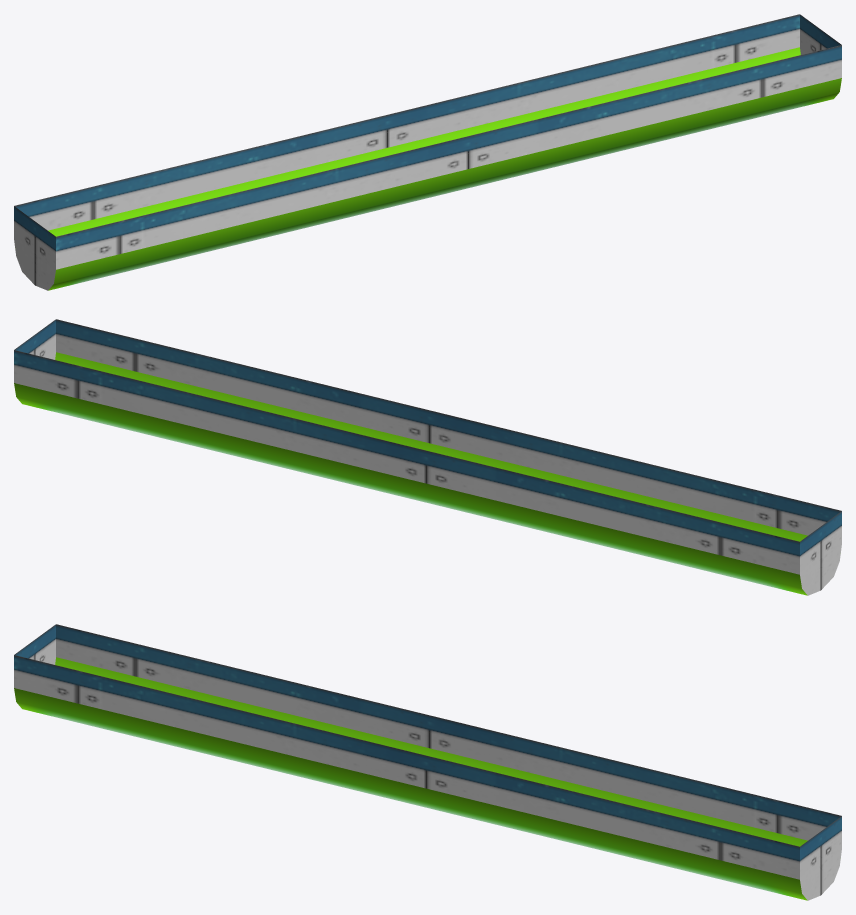
Rendered from Neon_Up_06.FBX.
3 renders of one model, top to bottom at view 1: azimuth 30°, elevation 25°; view 2: azimuth 150°, elevation 25°; view 3: azimuth 330°, elevation 25°, orthographic.
Parts seen in each view (by area): view 1: Neon_Up_06, Neon; view 2: Neon_Up_06, Neon; view 3: Neon_Up_06, Neon.
Boxes of the visible parts, x1=… form: Neon_Up_06: x1=14, y1=14, x2=841, y2=290; Neon: x1=48, y1=47, x2=841, y2=290; Neon_Up_06: x1=14, y1=319, x2=841, y2=595; Neon: x1=14, y1=352, x2=807, y2=595; Neon_Up_06: x1=14, y1=624, x2=841, y2=900; Neon: x1=14, y1=657, x2=807, y2=900.
Bounding box in the file's own units: 99.98 × 7.81 × 9.28.
